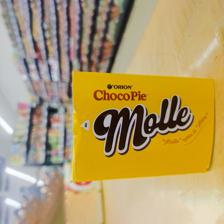Molle: (69, 68, 217, 179)
